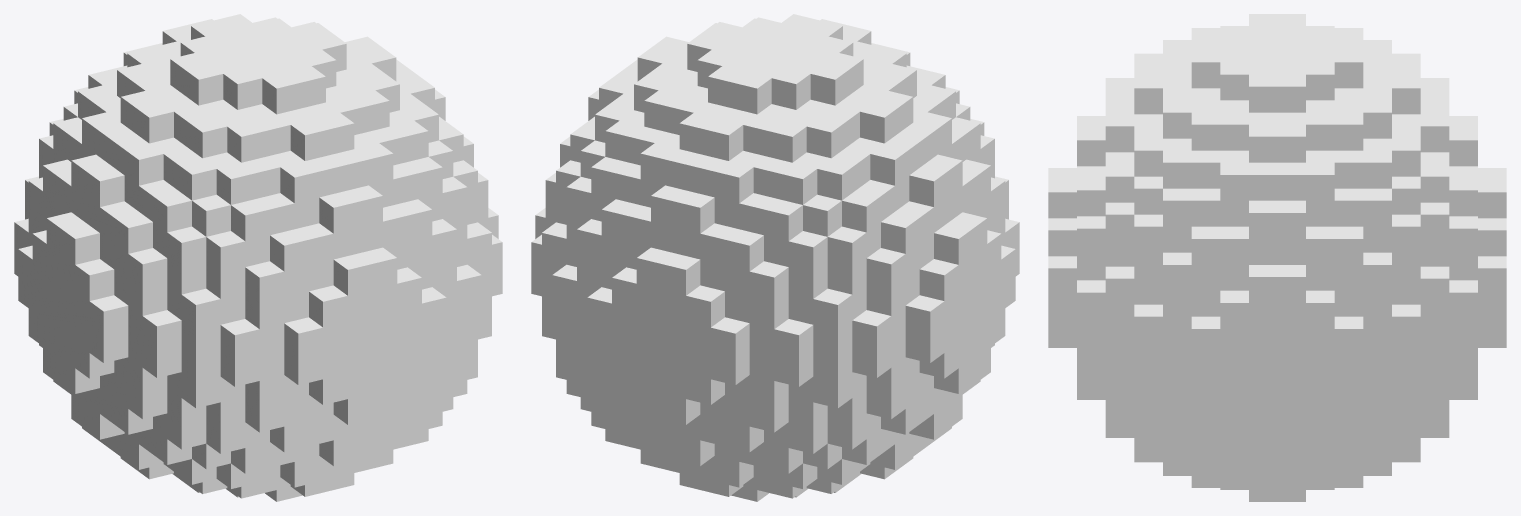
The model's file is Ore.obj.
3 views of the same model, side by side, from view 1: azimuth 30°, elevation 25°; view 2: azimuth 150°, elevation 25°; view 3: azimuth 270°, elevation 25° (orthographic).
Size of the model in its own units: 1.6 by 1.6 by 1.6.
1 material, 1 textured.
